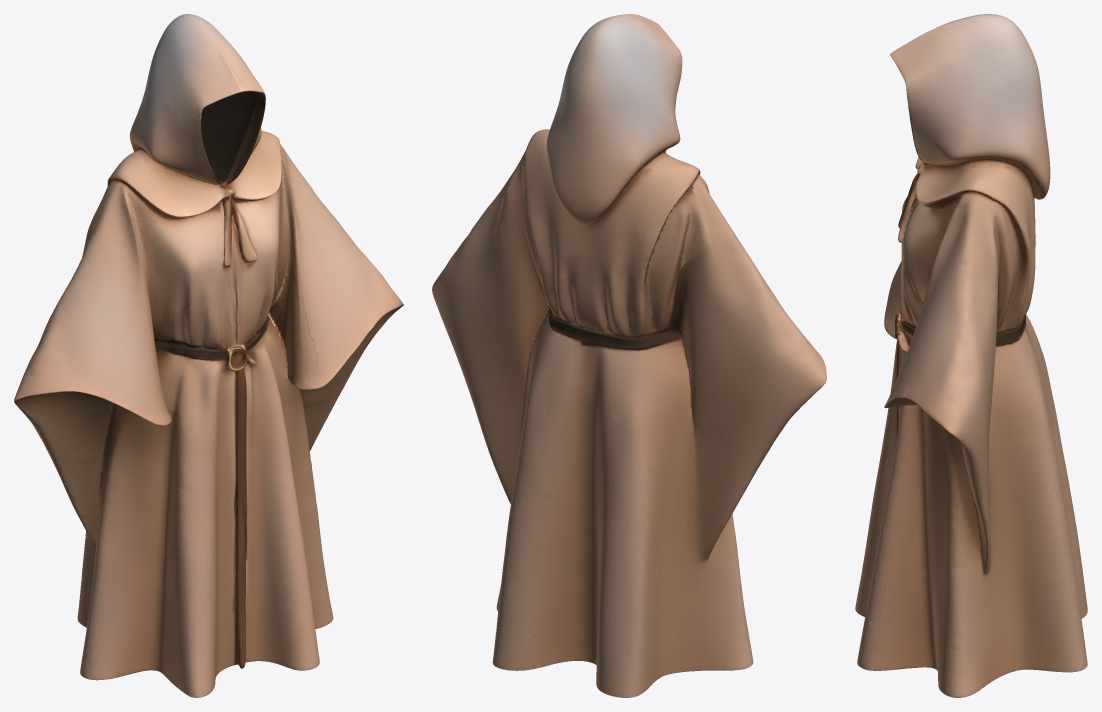
The model's file is base_basic_pbr.fbx.
3 views of the same model, side by side, from view 1: azimuth 30°, elevation 25°; view 2: azimuth 150°, elevation 25°; view 3: azimuth 270°, elevation 25° (orthographic).
Visible parts, largest first — view 1: model; view 2: model; view 3: model.
Boxes of the visible parts, left/top/right/bottom form: model: left=14, top=14, right=403, bottom=697; model: left=432, top=14, right=826, bottom=697; model: left=855, top=14, right=1087, bottom=697.
Size of the model in its own units: 125 by 190 by 64.38.
Materials: 1 (1 with a texture image).
